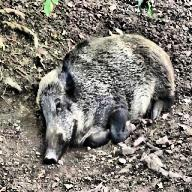boar: (34, 31, 176, 164)
